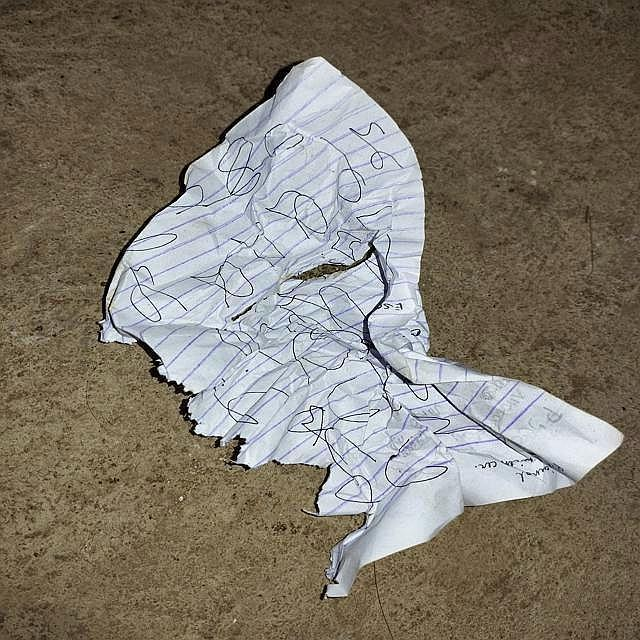Biodegradable: (78, 28, 640, 630)
